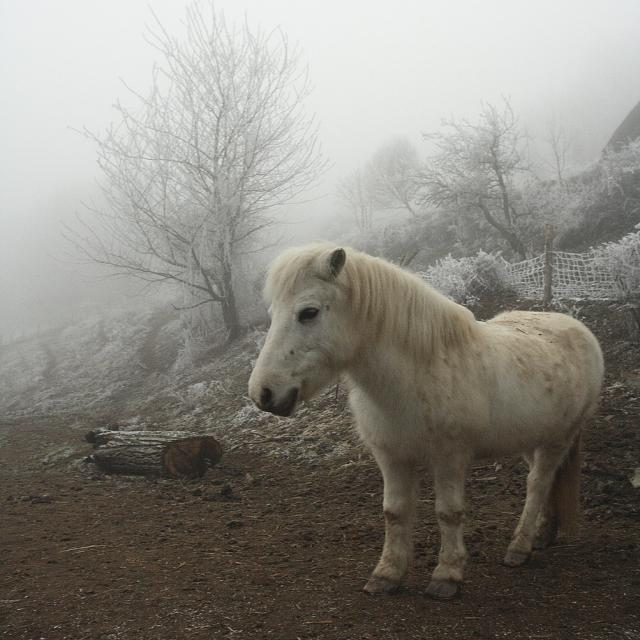Horse: (246, 242, 610, 606)
